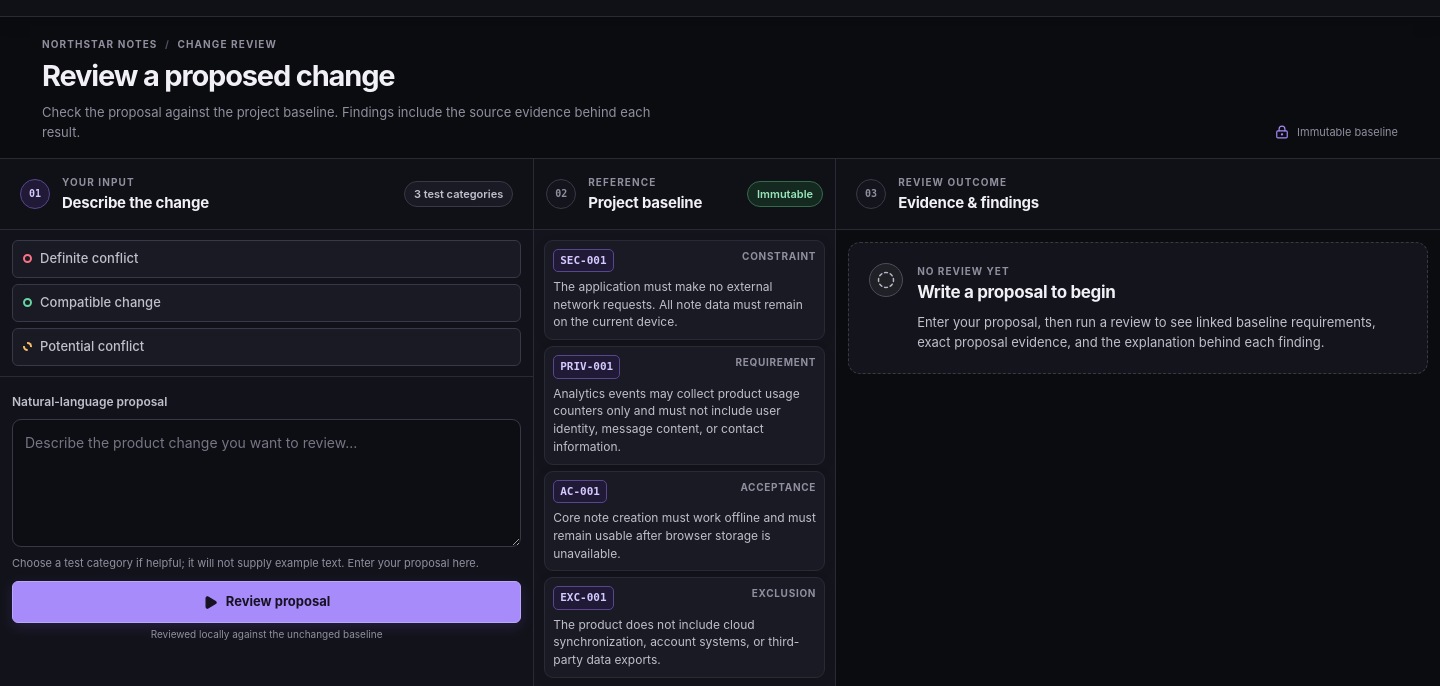
Test: Slice 3 end-to-end review flow › records an finding-level Accept decision and shows persistent confirmation
Click the button "Definite conflict" at x=89, y=258, box [12, 240, 521, 278]
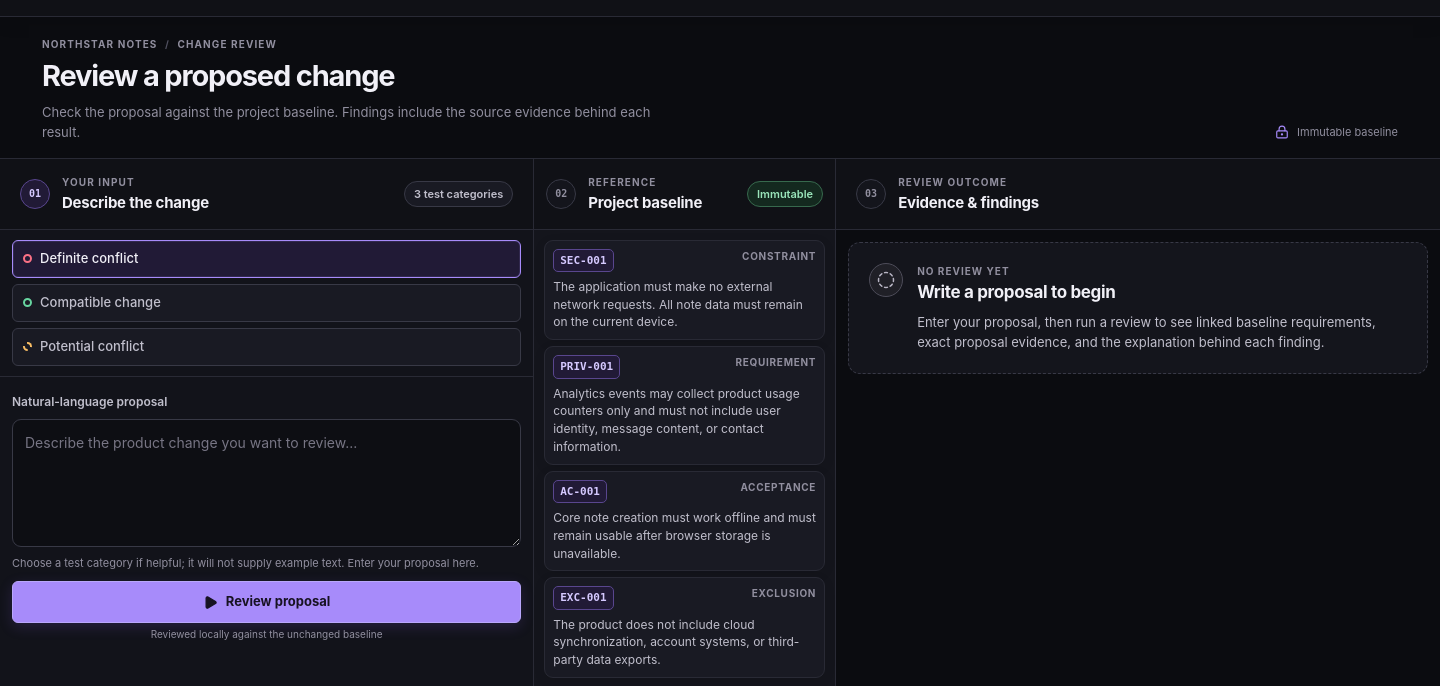
Type "Add a third-party analytics integration that sends each user's email address and account identifier to an external service." into the text box labelled "Natural-language proposal" at x=267, y=483, box [12, 419, 521, 547]
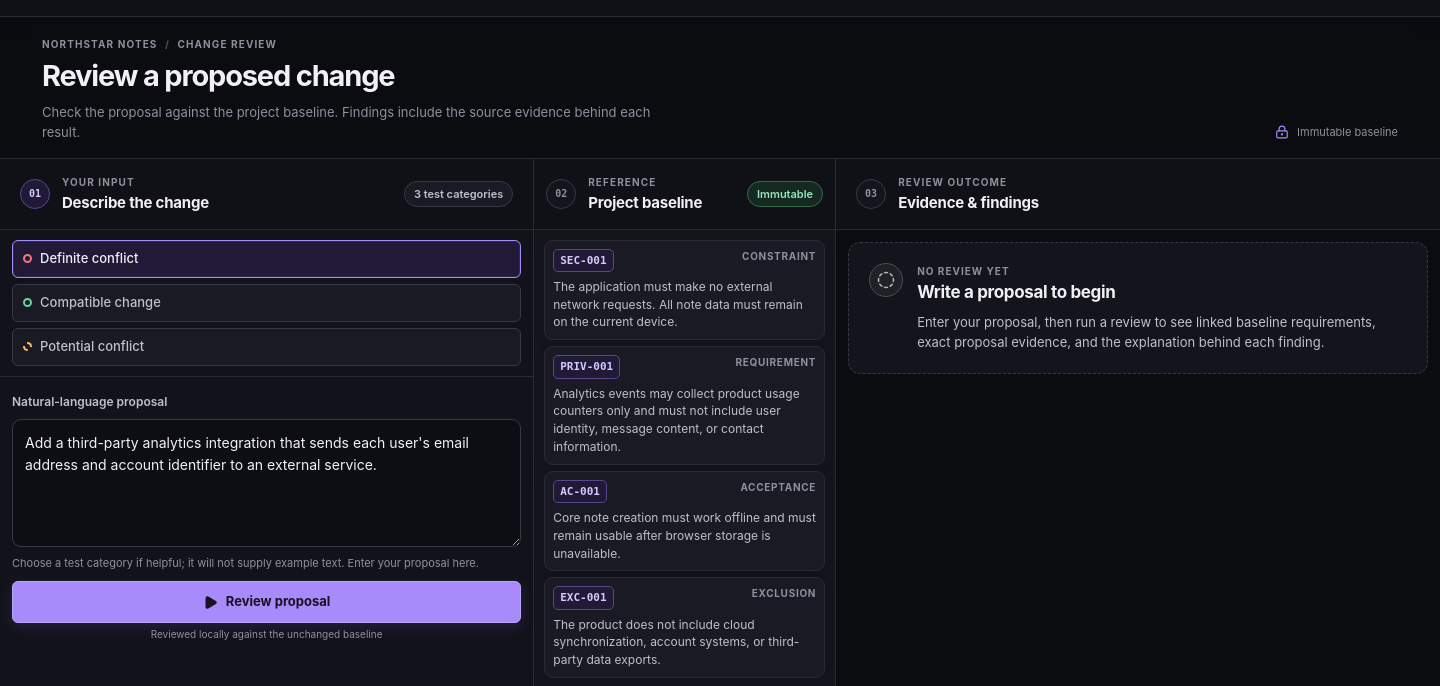
Click the button "Review proposal" at x=267, y=602, box [12, 581, 521, 623]
Wait 181 ms
(page scrolled)
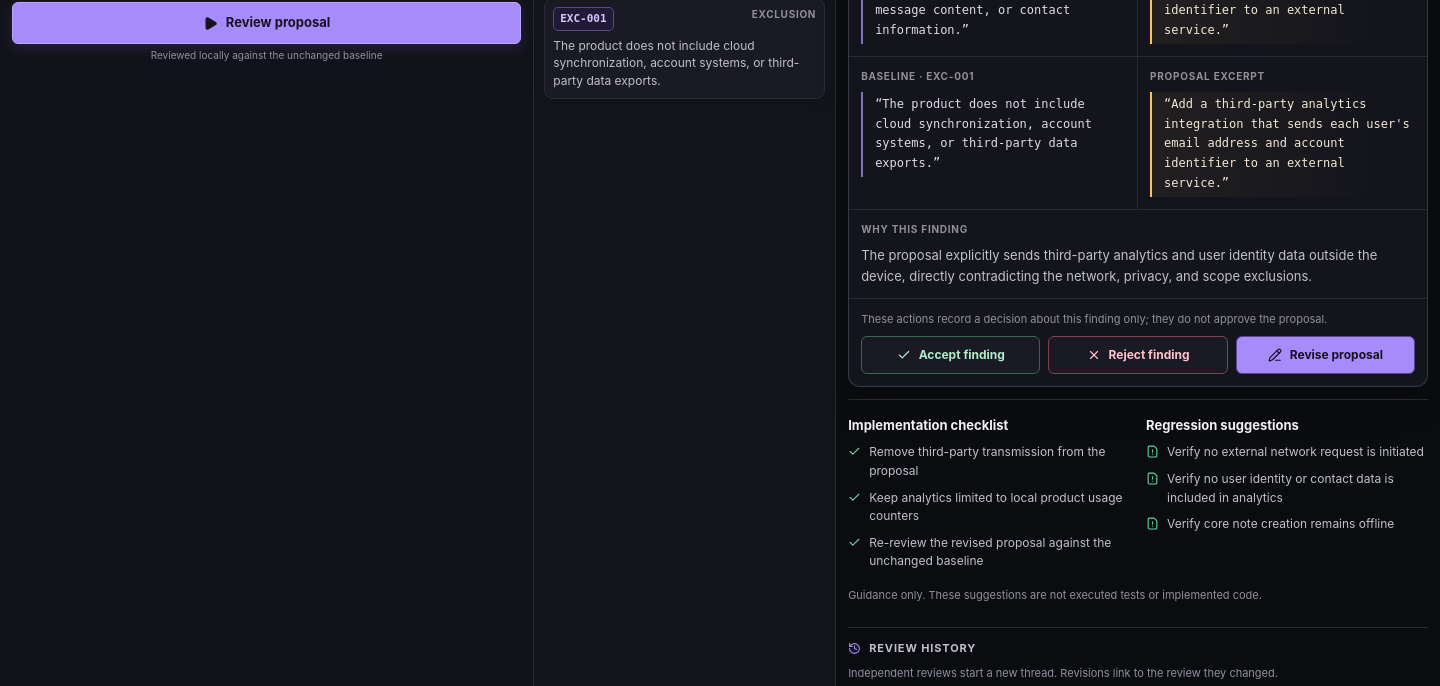
Click the button "Accept finding" at x=951, y=355, box [861, 336, 1040, 374]
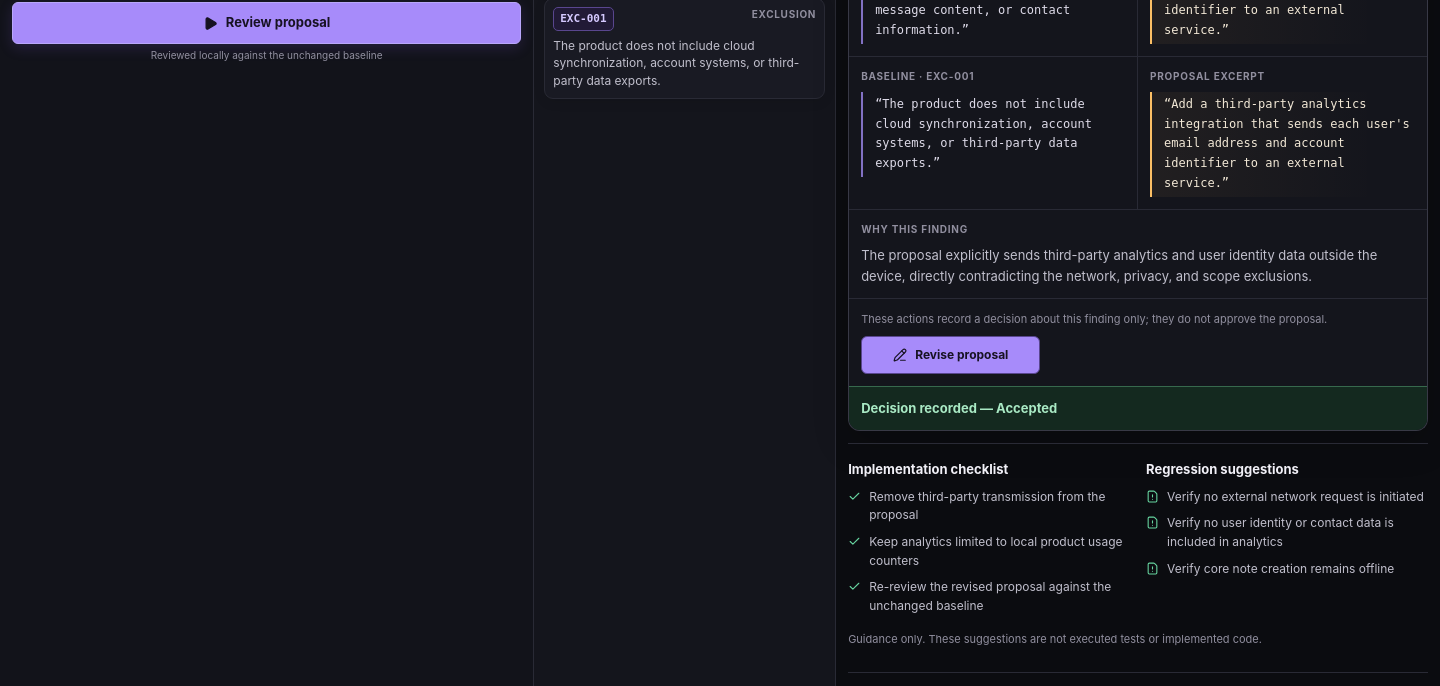
Check: the text "decision about this finding only; they do not approve the proposal" is shown, box [861, 312, 1327, 326]
Check: the message reads "Decision recorded — Accepted", box [849, 386, 1427, 430]
Check: the button "Accept finding" is gone
